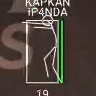hacks_1: (22, 1, 70, 96)
